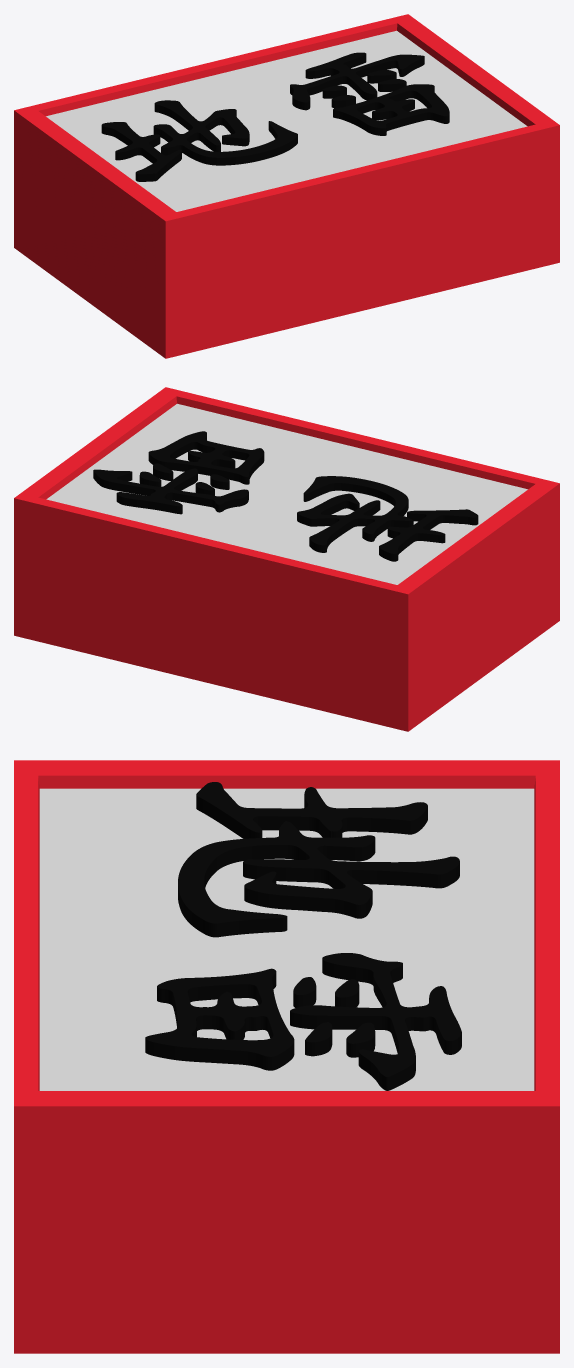
The model's file is i_di_lei.fbx.
3 renders of one model, top to bottom at view 1: azimuth 30°, elevation 25°; view 2: azimuth 150°, elevation 25°; view 3: azimuth 270°, elevation 25°, orthographic. The views are drawn at different scales.
Parts seen in each view (by area): view 1: Cube, 文本; view 2: Cube, 文本; view 3: Cube, 文本.
Boxes of the visible parts, <box> form: Cube: <box>14,14,559,358</box>; 文本: <box>101,52,449,181</box>; Cube: <box>14,387,559,731</box>; 文本: <box>93,431,478,561</box>; Cube: <box>14,760,559,1353</box>; 文本: <box>145,782,461,1090</box>.
Size of the model in its own units: 240 by 80.47 by 160.
